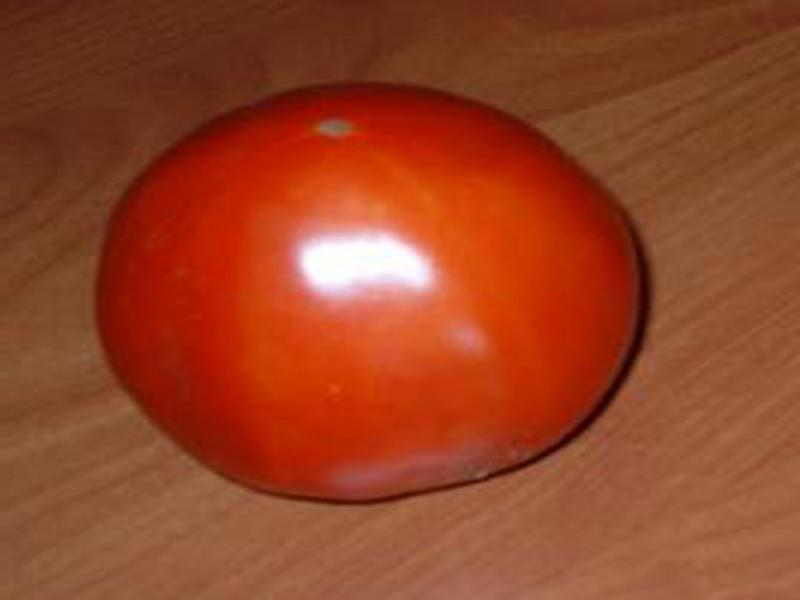Tomato: (89, 80, 649, 500)
